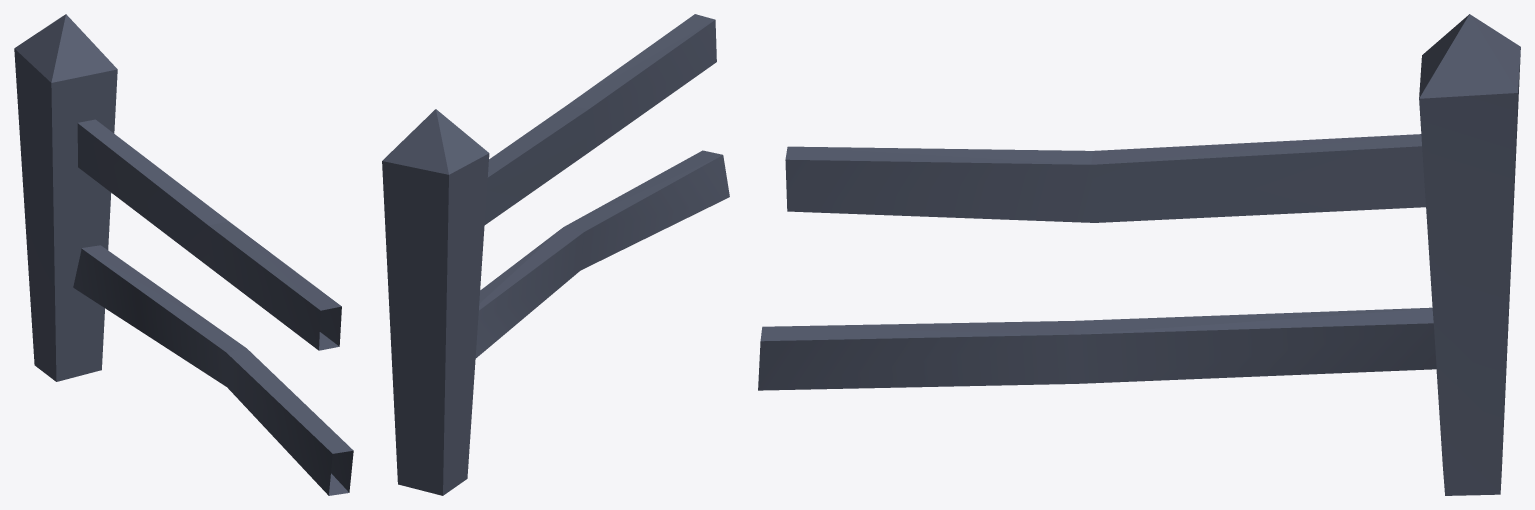
The model's file is FencePiece01.FBX.
3 renders of one model, left to right at view 1: azimuth 30°, elevation 25°; view 2: azimuth 150°, elevation 25°; view 3: azimuth 270°, elevation 25°, orthographic. The views are drawn at different scales.
Parts seen in each view (by area): view 1: FencePiece01; view 2: FencePiece01; view 3: FencePiece01.
Part boxes in pixels (x1,y1,x2,y2): FencePiece01: (14, 14, 353, 495); FencePiece01: (382, 14, 729, 495); FencePiece01: (758, 14, 1520, 495).
Size of the model in its own units: 26.62 by 137 by 204.
